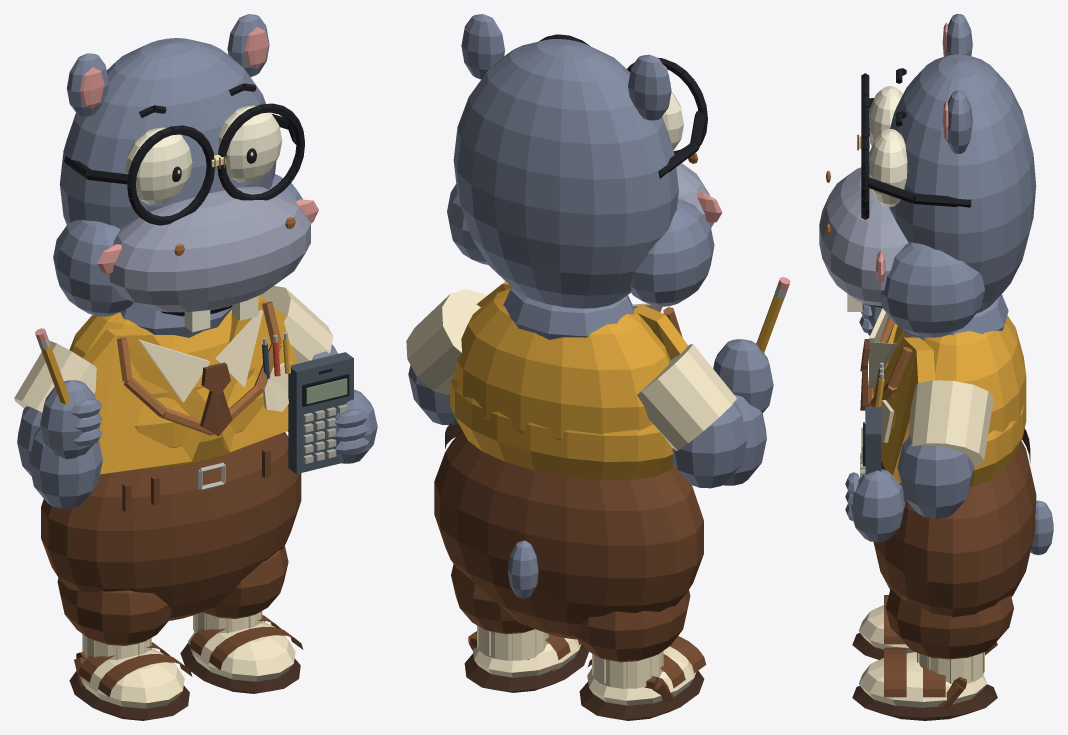
File: Hipopotenusa.glb
3 views of the same model, side by side, from view 1: azimuth 30°, elevation 25°; view 2: azimuth 150°, elevation 25°; view 3: azimuth 270°, elevation 25° (orthographic). The views are drawn at different scales.
Parts seen in each view (by area): view 1: Hipotenusa; view 2: Hipotenusa; view 3: Hipotenusa.
Part boxes in pixels (x1,y1,x2,y2): Hipotenusa: (14,14,377,720); Hipotenusa: (406,14,790,720); Hipotenusa: (819,14,1053,720).
Size of the model in its own units: 1.77 by 3.22 by 1.09.
Materials: 1 (1 with a texture image).
